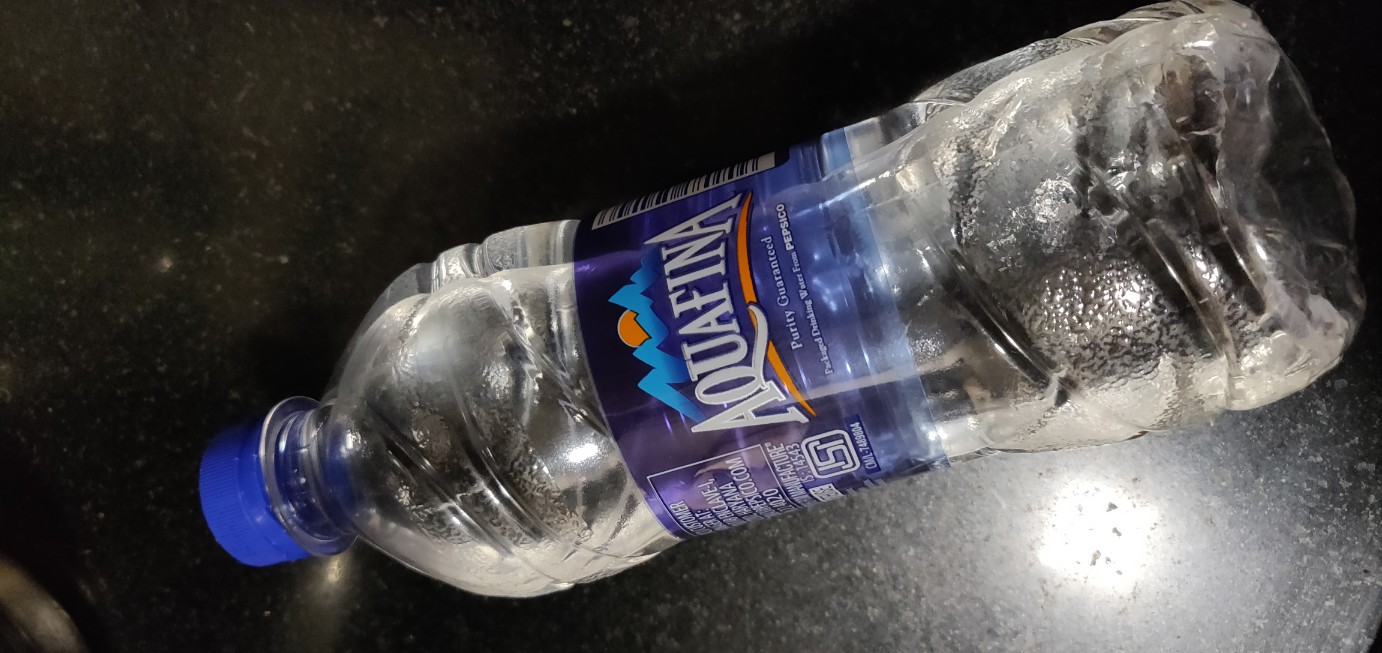Electronics: (183, 10, 1382, 605)
